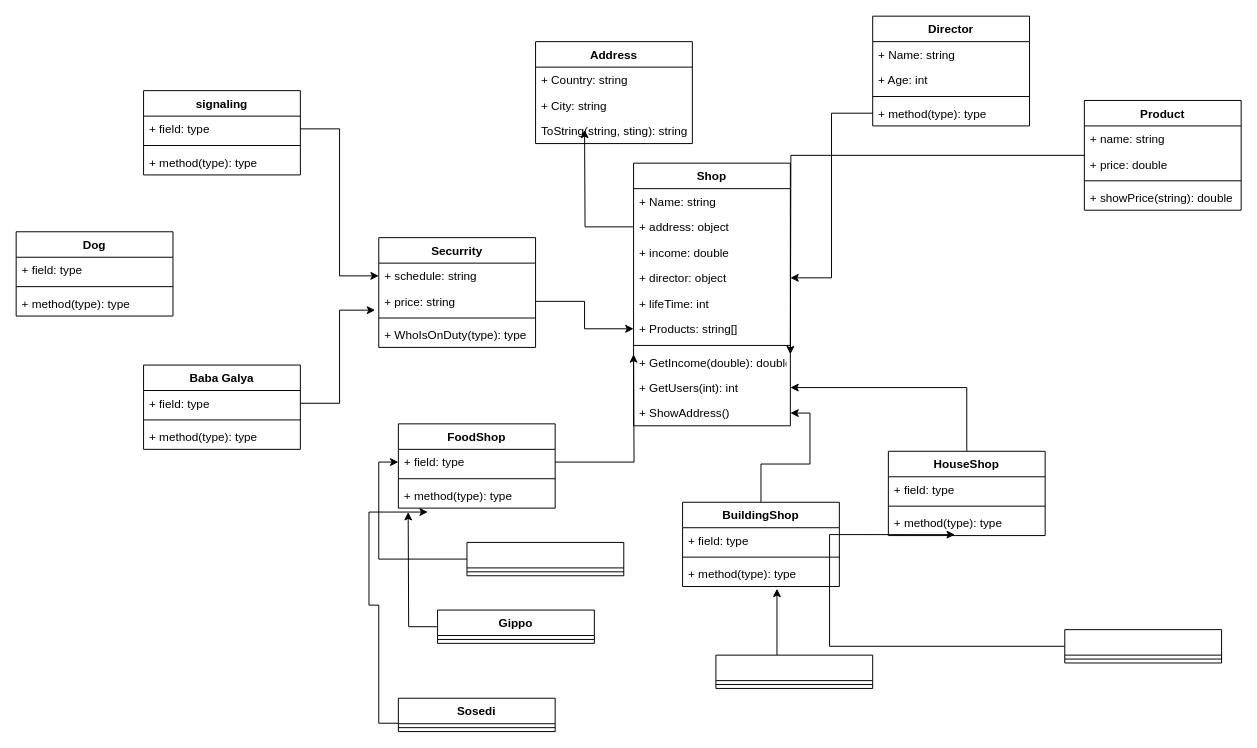
This 1257x748 diagram has some shape labels left out. Each missing label, with the centre of its shape:
"Evroopt" goes at (x=545, y=558).
"Materic" goes at (x=794, y=671).
"Mila" goes at (x=1143, y=646).
